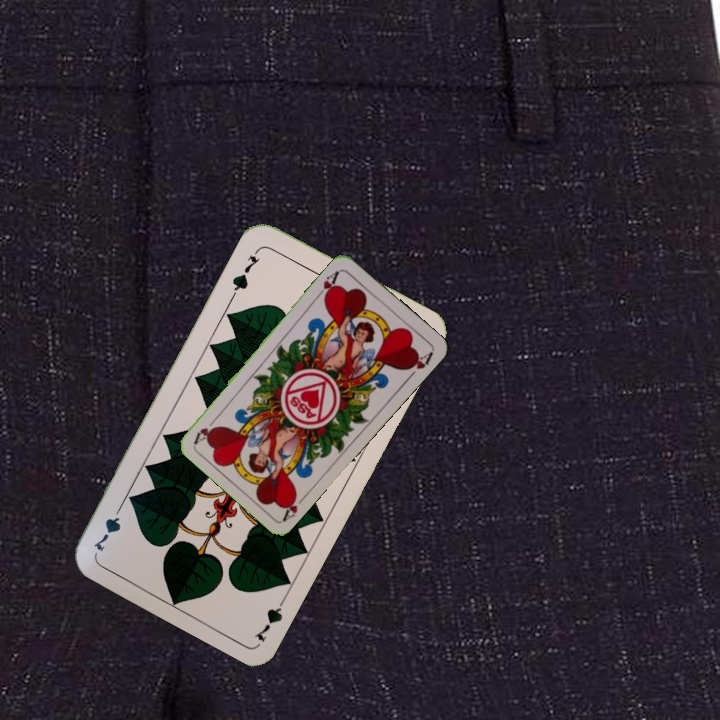G7: (250, 589, 291, 644), (228, 244, 263, 299)
HA: (313, 266, 343, 303), (279, 489, 310, 523)
